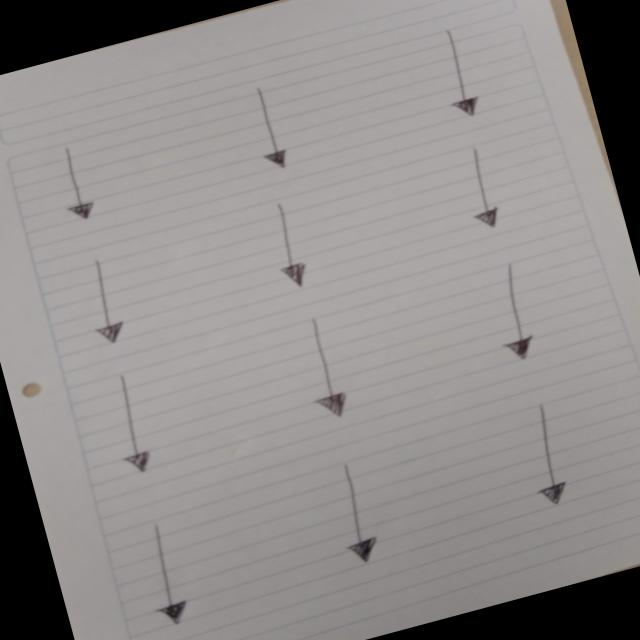arrow_line_down: (508, 396, 592, 516), (477, 258, 555, 374), (280, 315, 360, 426), (132, 514, 198, 637), (100, 372, 172, 481), (323, 455, 388, 567), (67, 253, 129, 353), (427, 24, 489, 120), (256, 202, 314, 292), (452, 146, 512, 232), (244, 82, 298, 171), (50, 148, 100, 222)
